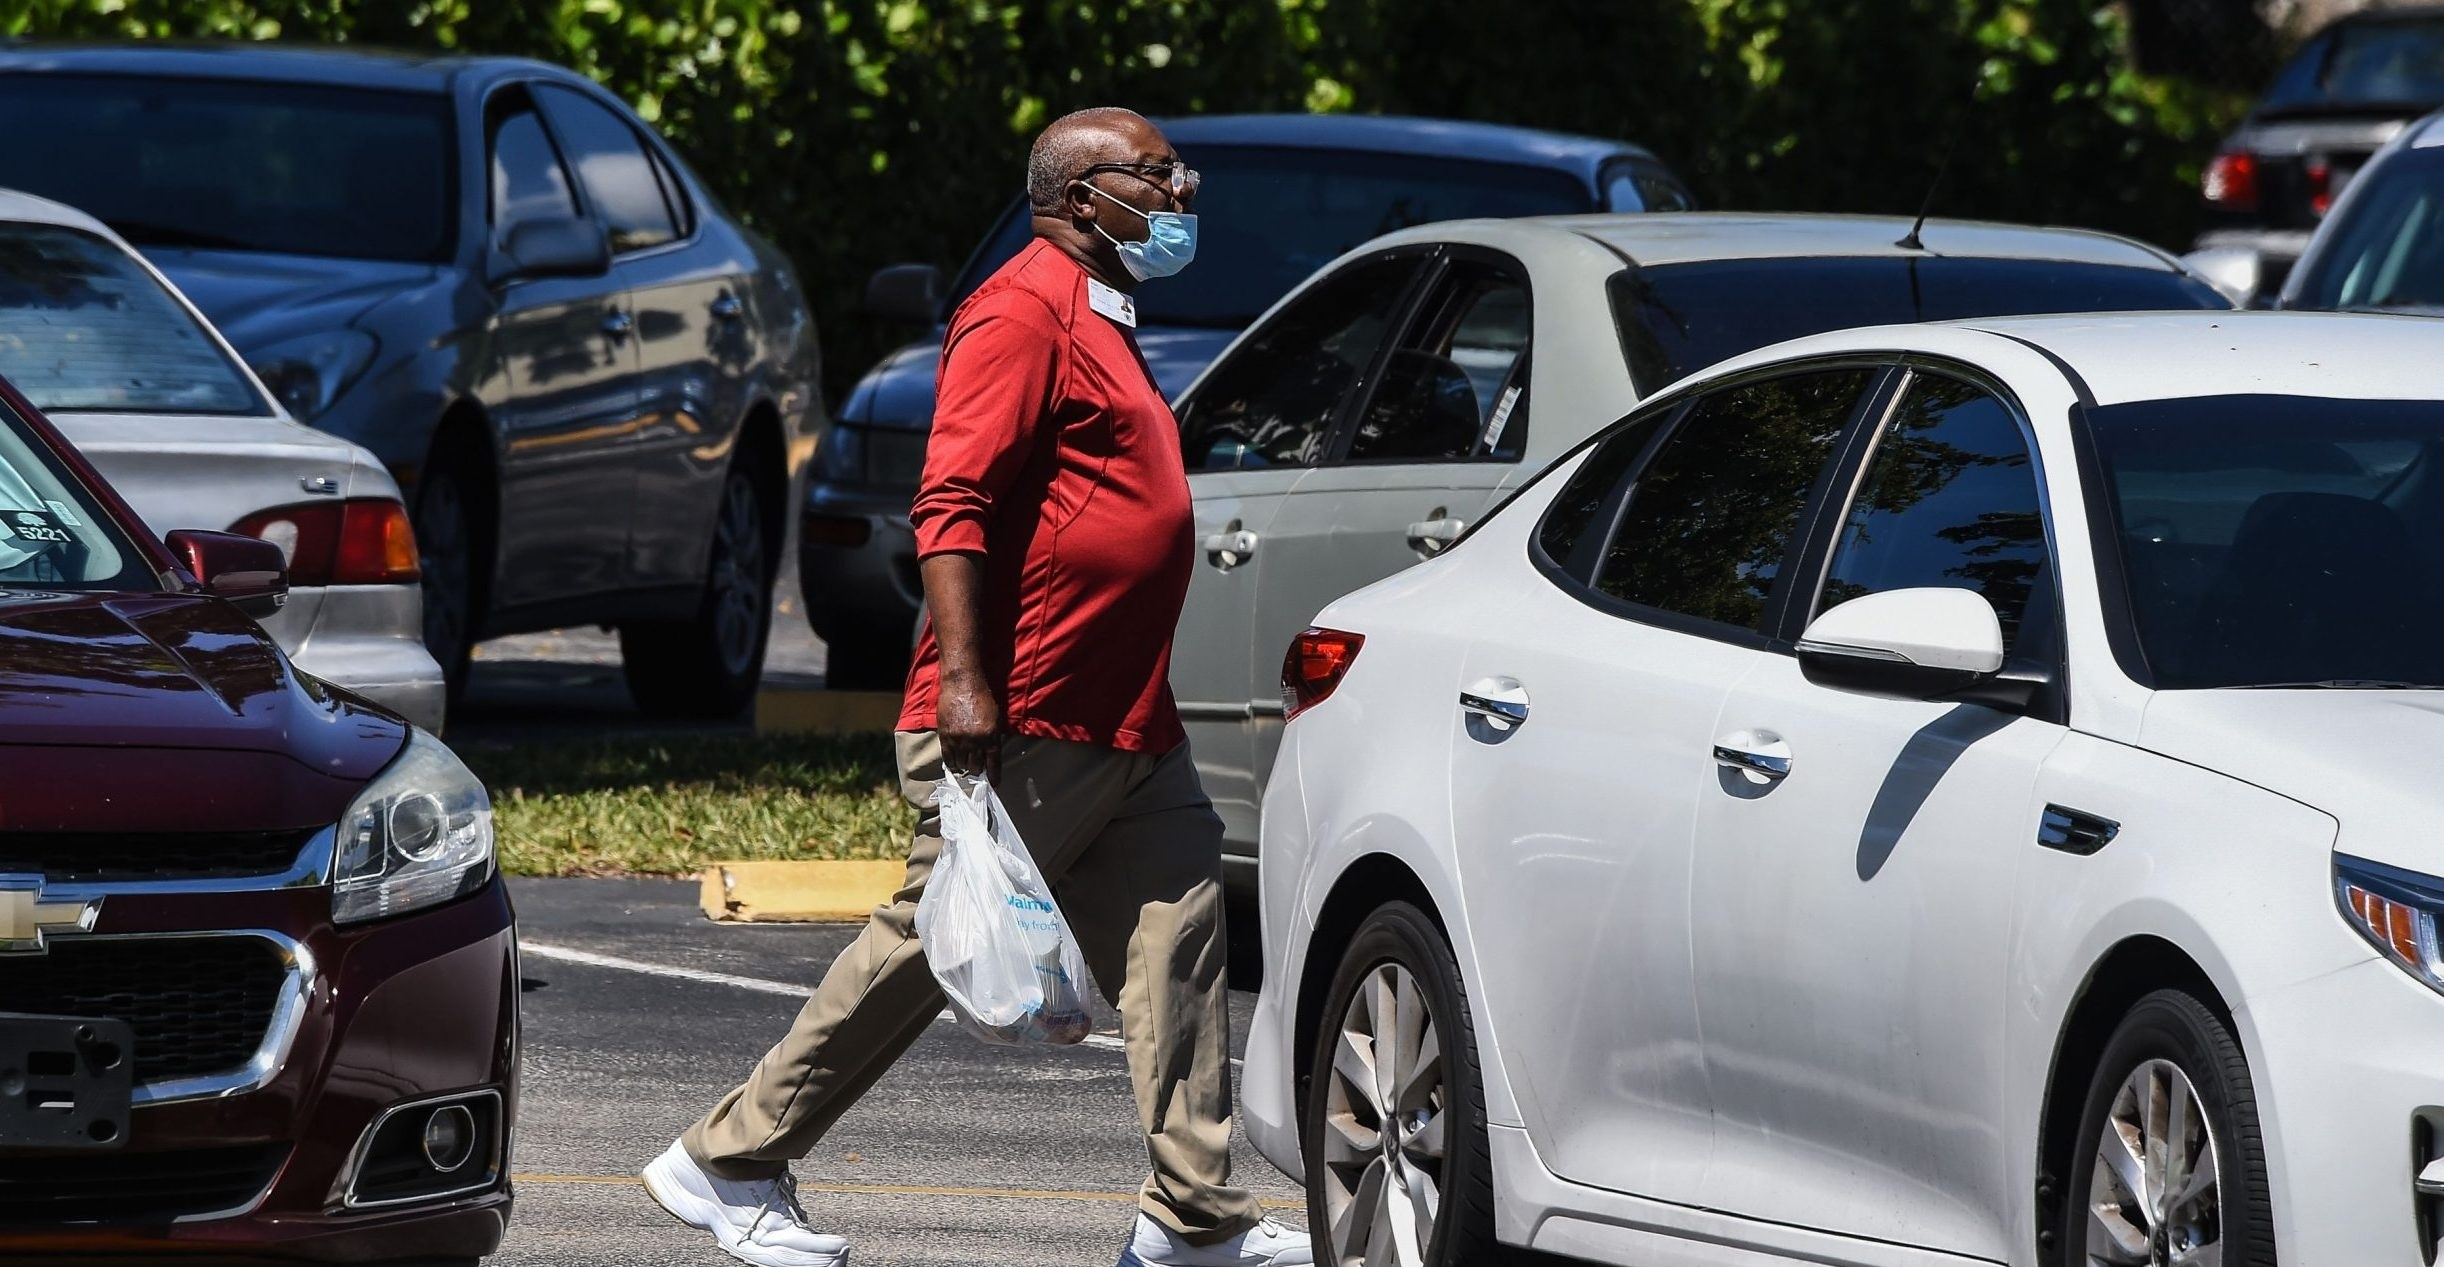face_with_mask: (1015, 106, 1209, 295)
